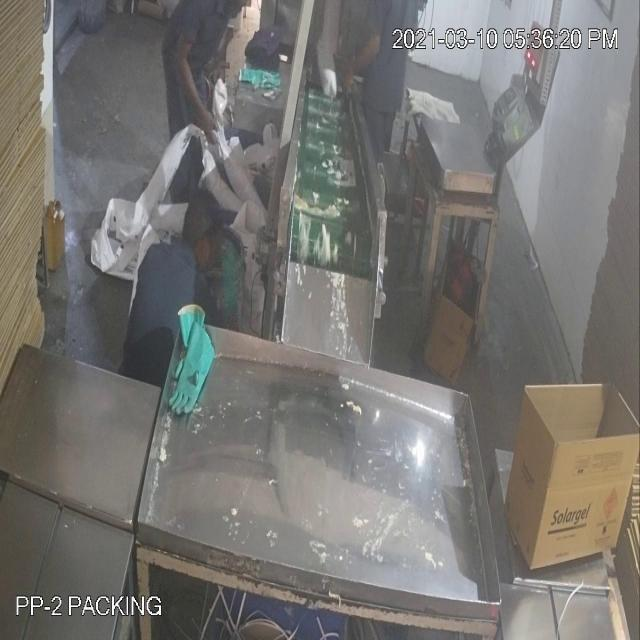No_Gloves: (46, 66, 361, 113)
